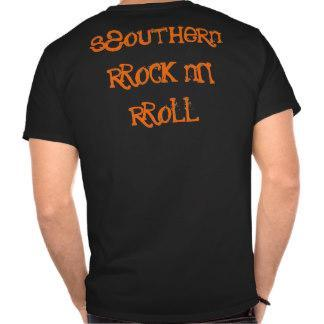T-shirt: (17, 1, 311, 324)
